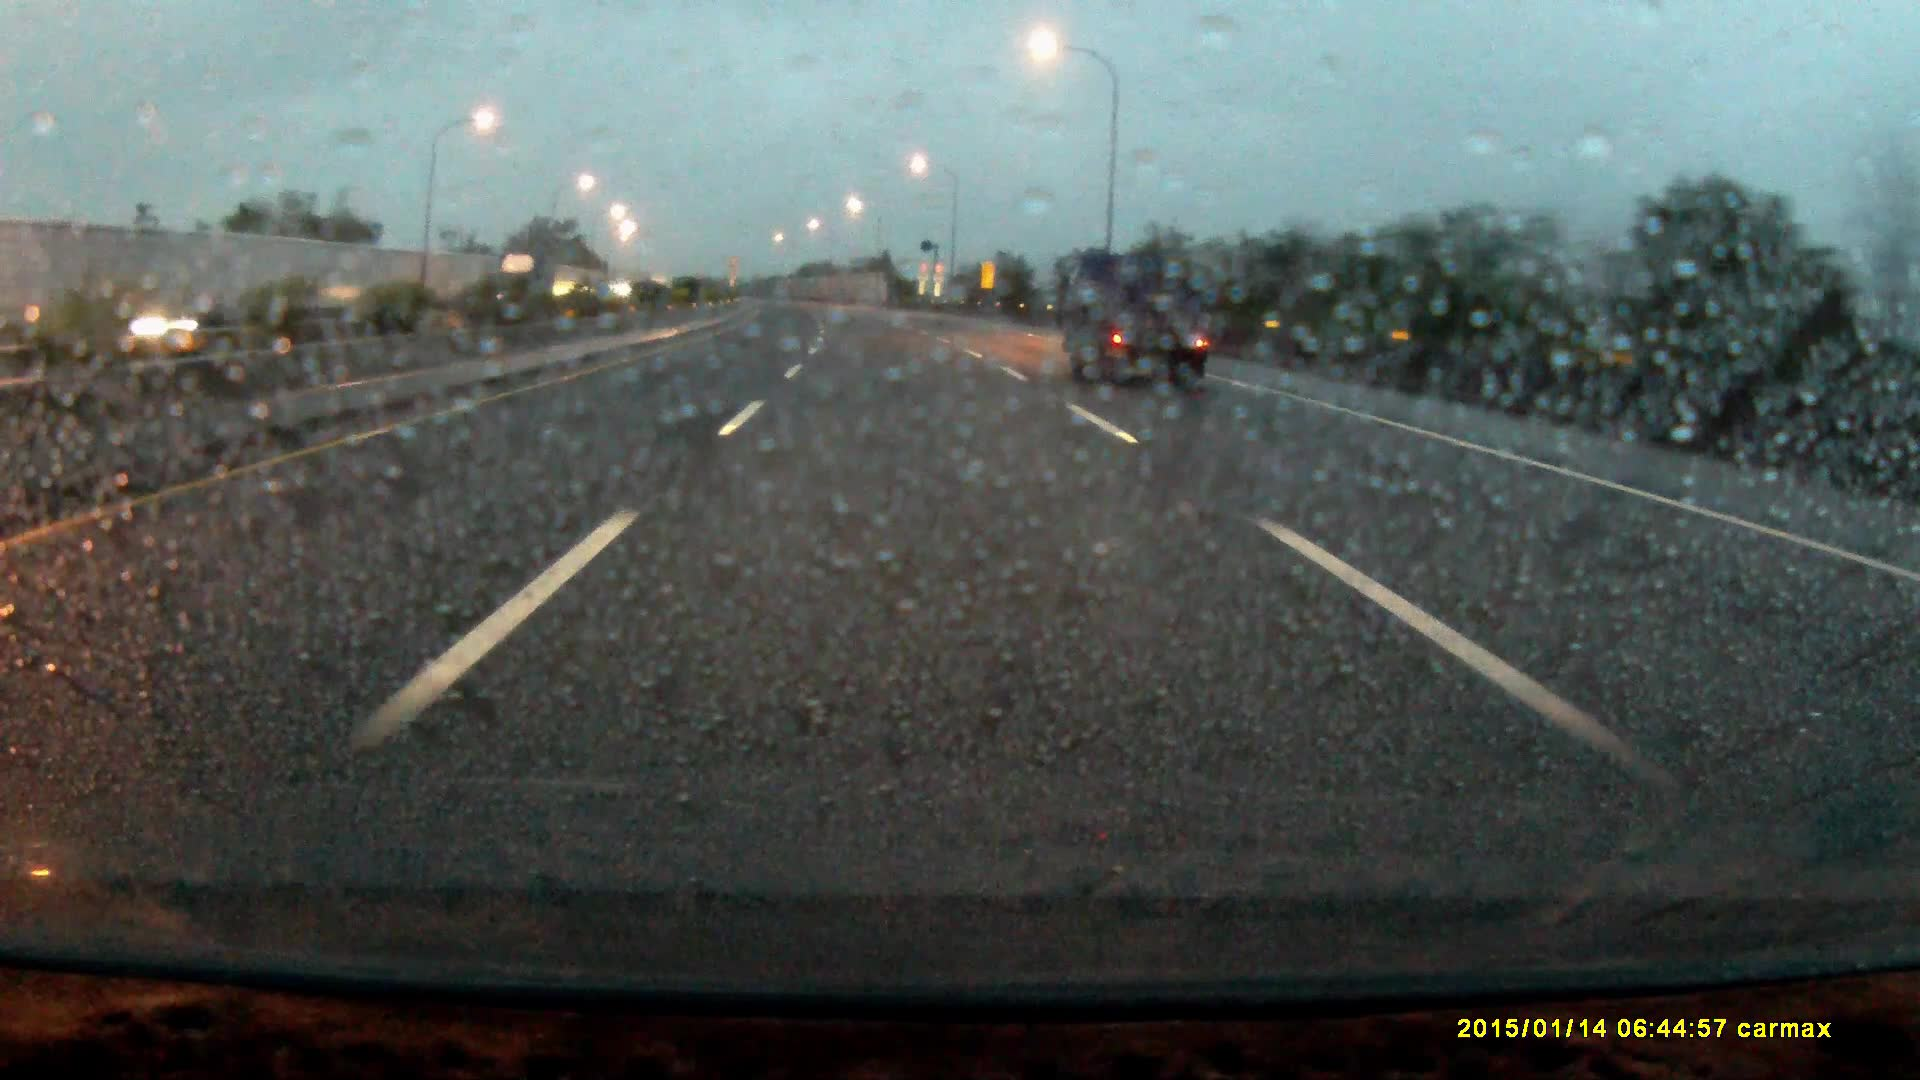vehicle: (1062, 252, 1209, 400), (497, 255, 556, 324)
